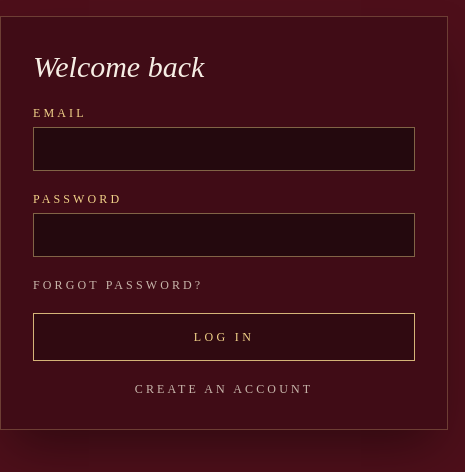
LoginForm › disables the submit button while the request is in flight
Type "a@b.co" into the field labelled "Email". click: (224, 149)
box: [33, 127, 415, 171]
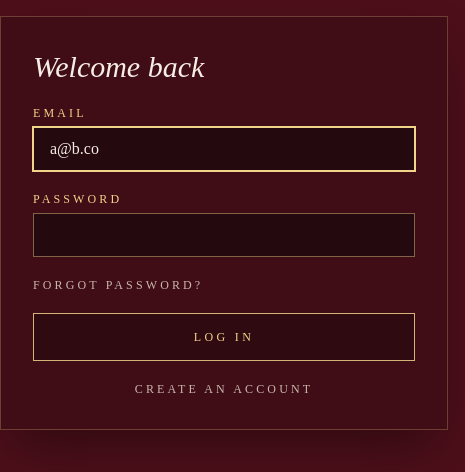
Type "hunter22" into the password field labelled "Password". click: (224, 235)
box: [33, 213, 415, 257]
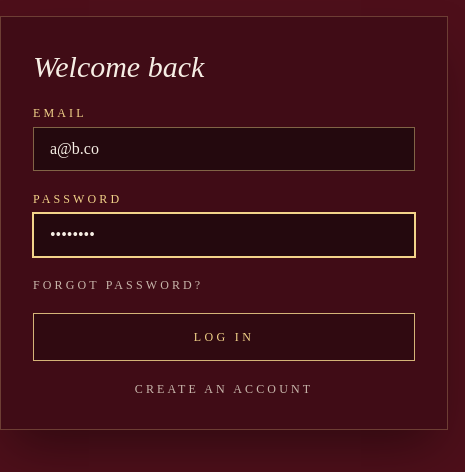
Click the button "Log in". click: (224, 337)
box: [33, 313, 415, 361]
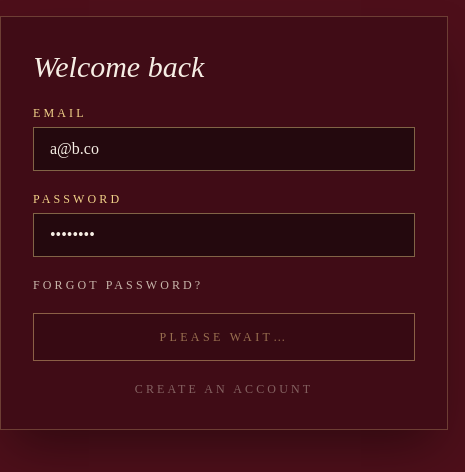
Now the button "Please wait…" is disabled, box [33, 313, 415, 361]
